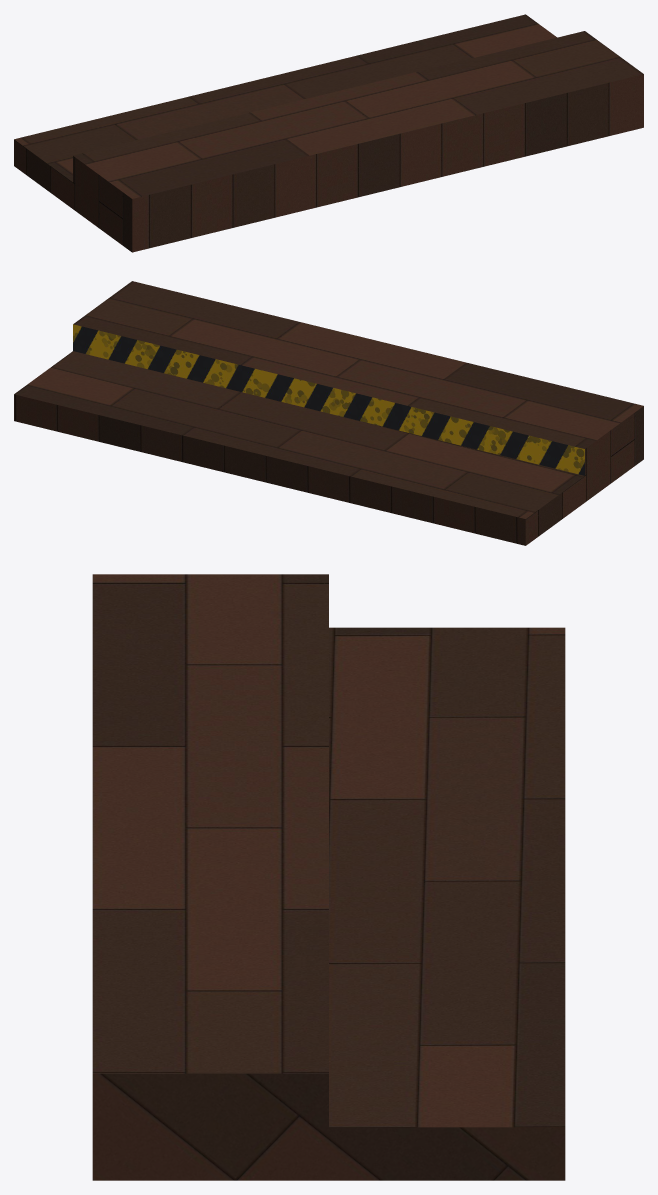
File: MuseumStair.fbx
The picture shows the model from 3 angles, top to bottom: view 1: azimuth 30°, elevation 25°; view 2: azimuth 150°, elevation 25°; view 3: azimuth 270°, elevation 25°; orthographic projection. The views are drawn at different scales.
Visible parts, largest first — view 1: StairsMuseum; view 2: StairsMuseum; view 3: StairsMuseum.
Part boxes in pixels (x1,y1,x2,y2): StairsMuseum: (14, 14, 643, 252); StairsMuseum: (14, 281, 643, 545); StairsMuseum: (92, 574, 565, 1180).
Size of the model in its own units: 500 by 50 by 200.
